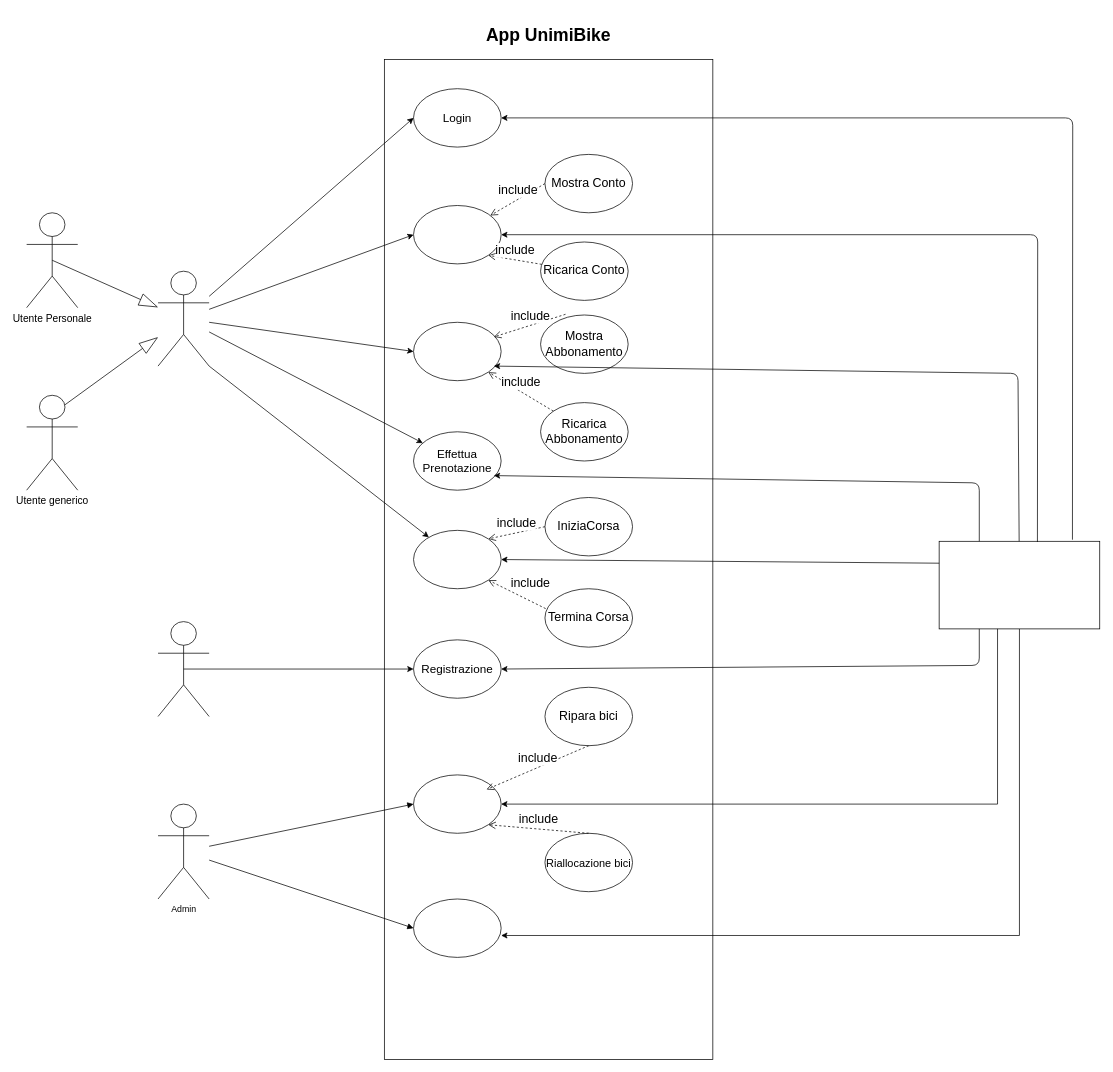
Image size: 1113x1072. Some labels were removed from this diagram. Here are the shapes that lost their labels. From the top down, the centre of each, then its label:
At pixel 457 234: "Gestione Conto".
At pixel 183 318: "Utente".
At pixel 457 351: "Gestione Abbonamento".
At pixel 457 559: "Effettua Corsa".
At pixel 1019 585: "Sistema".
At pixel 183 668: "Utente non registrato".
At pixel 457 803: "Manutenzione".
At pixel 457 927: "Consulta statistiche".
